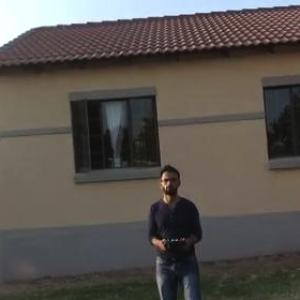follow: (145, 161, 210, 299)
